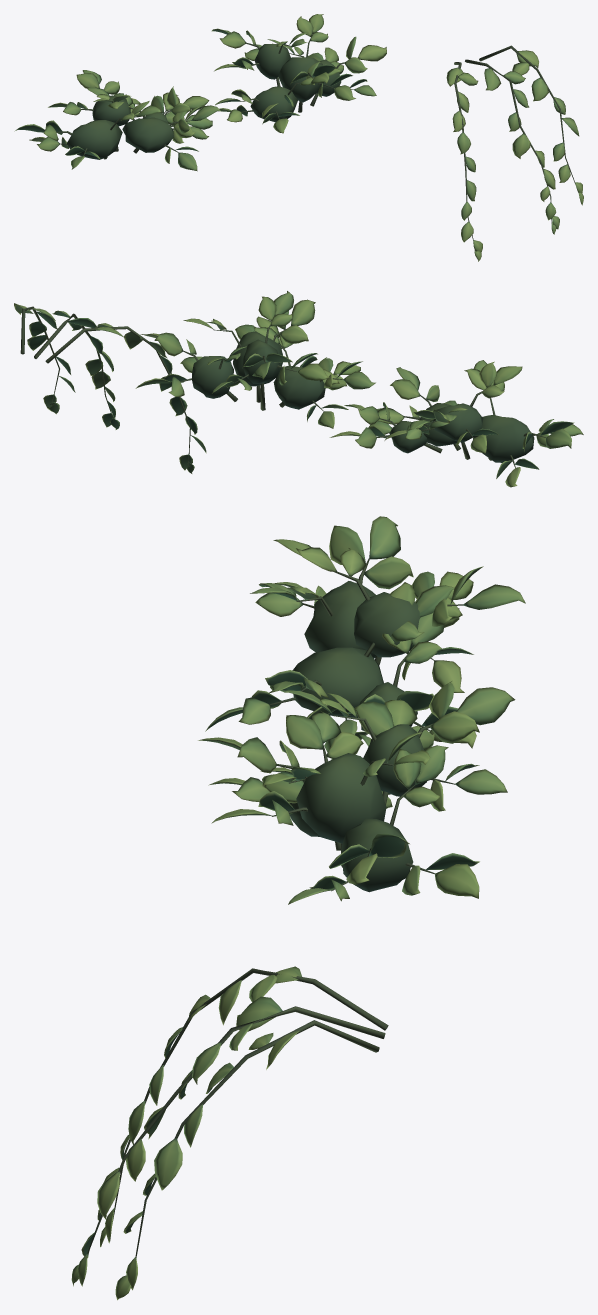
The model's file is cascade-shrubs.glb.
3 views of the same model, one above another, from view 1: azimuth 30°, elevation 25°; view 2: azimuth 150°, elevation 25°; view 3: azimuth 270°, elevation 25° (orthographic). The views are drawn at different scales.
Parts seen in each view (by area): view 1: cascade-spreading, cascade-upright, cascade-trailing; view 2: cascade-upright, cascade-spreading, cascade-trailing; view 3: cascade-upright, cascade-spreading, cascade-trailing.
Part boxes in pixels (x1=…): cascade-spreading: x1=14, y1=70, x2=221, y2=171; cascade-upright: x1=211, y1=14, x2=386, y2=133; cascade-trailing: x1=446, y1=45, x2=583, y2=261; cascade-upright: x1=135, y1=291, x2=375, y2=428; cascade-spreading: x1=329, y1=360, x2=583, y2=487; cascade-trailing: x1=14, y1=303, x2=206, y2=473; cascade-upright: x1=198, y1=681, x2=515, y2=904; cascade-spreading: x1=205, y1=516, x2=525, y2=759; cascade-trailing: x1=71, y1=966, x2=388, y2=1300.
Size of the model in its own units: 5 by 2.04 by 1.94.
